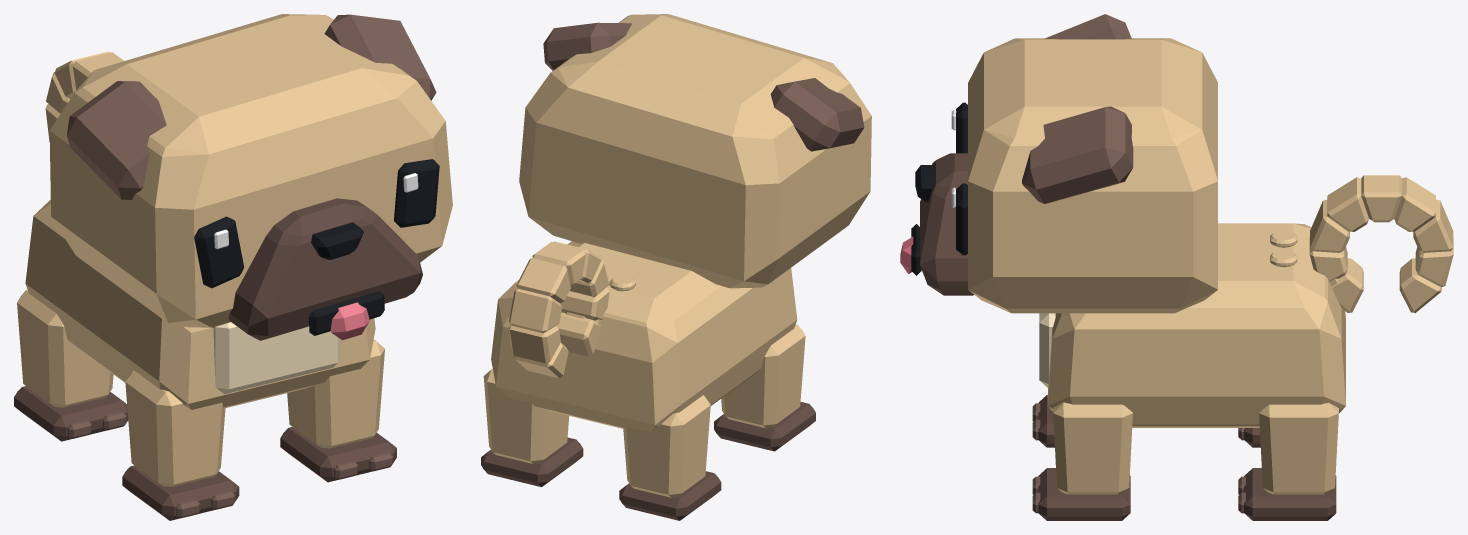
Rendered from Pug_Base_v01.fbx.
3 renders of one model, left to right at view 1: azimuth 30°, elevation 25°; view 2: azimuth 150°, elevation 25°; view 3: azimuth 270°, elevation 25°, orthographic. The views are drawn at different scales.
Visible parts, largest first — view 1: Head.001, Body.001, Muzzle, FL_Leg, Ear_L, BL_Leg, FR_Leg, Chest, Ear_R, FL_Paw, FR_Paw, BL_Paw (+8 smaller); view 2: Head.001, Body.001, BL_Leg, FL_Leg, BR_Leg, Ear_L, Ear_R, BL_Paw, BR_Paw, FL_Paw, Tail_Curl_Seg_06, Tail_Curl_Seg_05 (+7 smaller); view 3: Head.001, Body.001, Ear_R, FR_Leg, BR_Leg, Muzzle, FR_Paw, BR_Paw, Tail_Curl_Seg_04, Tail_Curl_Seg_03, Tail_Curl_Seg_05, Ear_L (+10 smaller).
Boxes of the visible parts, box(x1,y1,x2,y2) form: Head.001: box(49, 14, 452, 327); Body.001: box(25, 200, 375, 409); Muzzle: box(228, 198, 422, 340); FL_Leg: box(125, 370, 225, 486); Ear_L: box(67, 81, 166, 199); BL_Leg: box(17, 289, 113, 407); FR_Leg: box(287, 339, 384, 448); Chest: box(213, 322, 341, 393); Ear_R: box(324, 14, 436, 100); FL_Paw: box(122, 465, 239, 520); FR_Paw: box(280, 427, 396, 482); BL_Paw: box(14, 386, 128, 441); Head.001: box(519, 14, 871, 288); Body.001: box(491, 241, 797, 432); BL_Leg: box(623, 395, 710, 497); FL_Leg: box(721, 324, 805, 428); BR_Leg: box(483, 369, 569, 463); Ear_L: box(770, 78, 864, 151); Ear_R: box(543, 22, 631, 70); BL_Paw: box(619, 471, 721, 520); BR_Paw: box(481, 437, 583, 487); FL_Paw: box(714, 402, 815, 451); Tail_Curl_Seg_06: box(509, 288, 562, 333); Tail_Curl_Seg_05: box(516, 258, 570, 302); Head.001: box(968, 38, 1217, 313); Body.001: box(1048, 223, 1345, 427); Ear_R: box(1022, 106, 1133, 203); FR_Leg: box(1053, 402, 1132, 494); BR_Leg: box(1259, 402, 1338, 494); Muzzle: box(920, 153, 973, 295); FR_Paw: box(1038, 468, 1130, 520); BR_Paw: box(1244, 468, 1336, 520); Tail_Curl_Seg_04: box(1361, 175, 1402, 222); Tail_Curl_Seg_03: box(1327, 177, 1368, 231); Tail_Curl_Seg_05: box(1394, 177, 1435, 231); Ear_L: box(1044, 14, 1131, 39).
Size of the model in its own units: 193 by 235 by 288.
